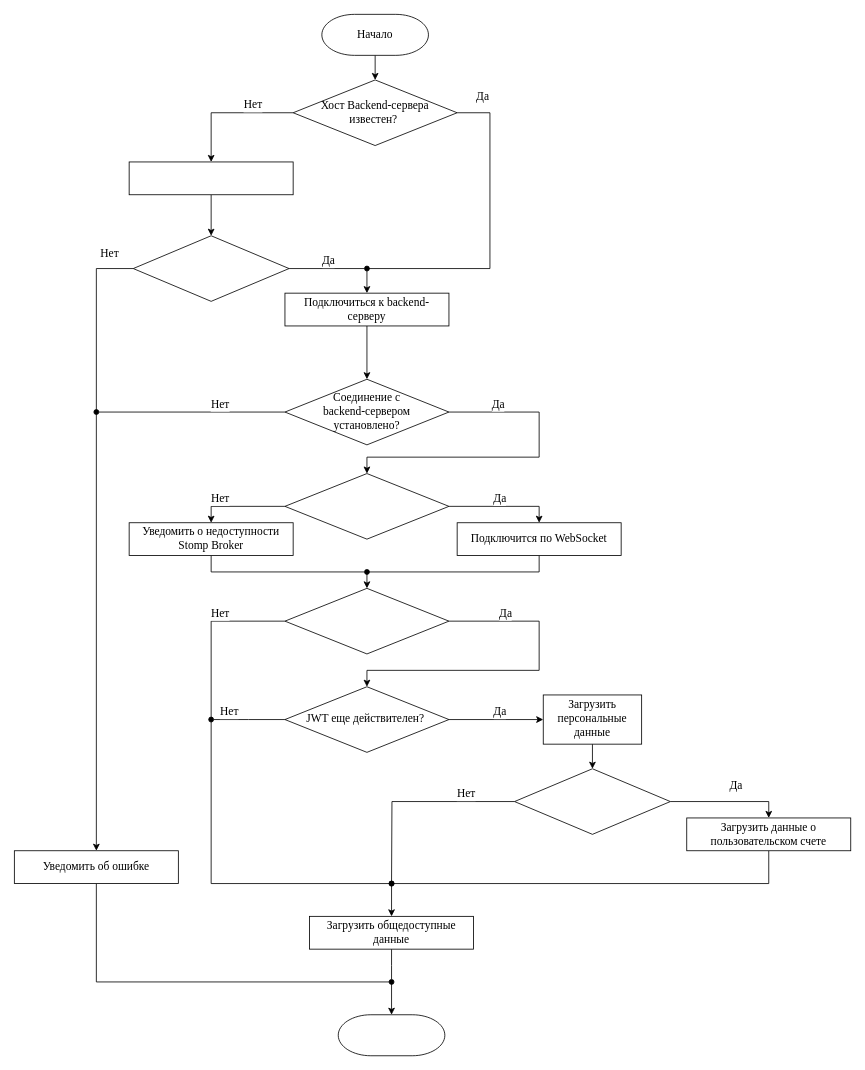
This 865x1070 diagram has some shape labels left out. The shapes that lost their labels are listed below. From the top down, each one's centre as x and y in pixels, then its label:
[210,178]: Обратиться к Service-Registry за адресом backend-сервера
[210,268]: Хост Backend-сервера найден?
[366,506]: Есть доступ к Stomp broker?
[366,621]: Пользователь авторизован?
[592,801]: Есть доступ к брокеру сообщений Kafka?
[391,1035]: Конец
